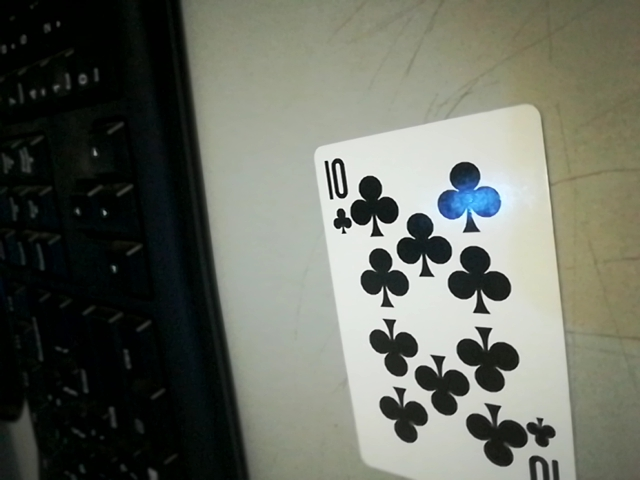mh 10: (311, 148, 360, 231)
